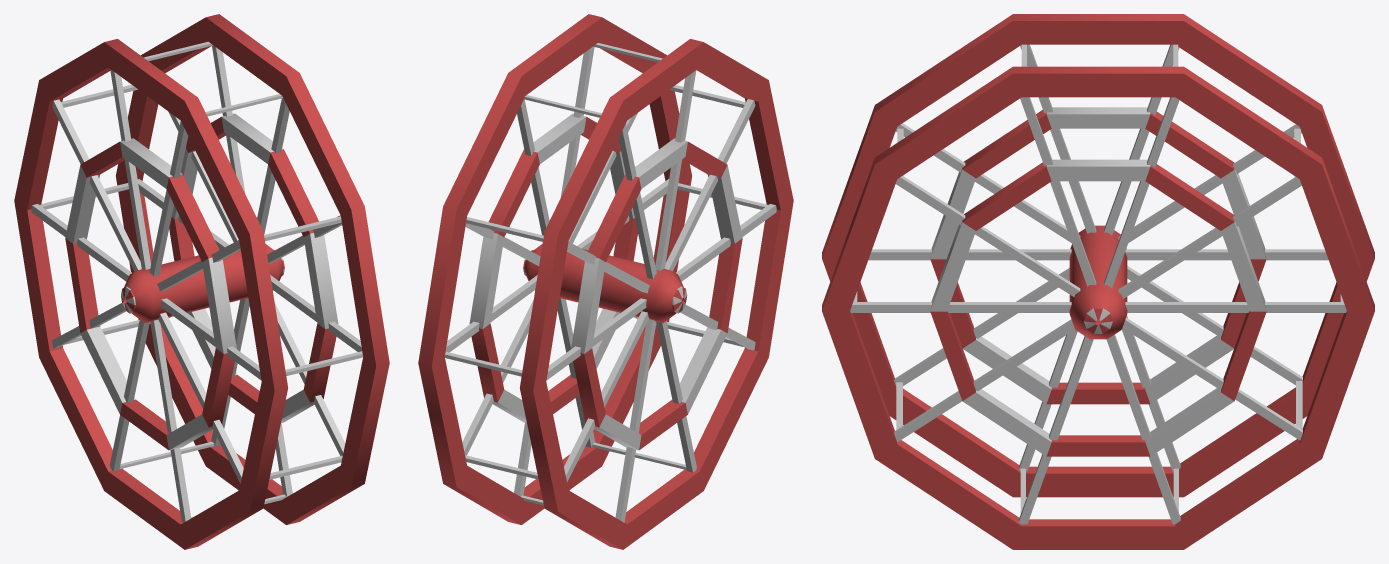
The model's file is wheel.fbx.
3 views of the same model, side by side, from view 1: azimuth 30°, elevation 25°; view 2: azimuth 150°, elevation 25°; view 3: azimuth 270°, elevation 25° (orthographic). The views are drawn at different scales.
Parts seen in each view (by area): view 1: Wheel; view 2: Wheel; view 3: Wheel.
Part boxes in pixels (box(x1,y1,x2,y2)): Wheel: box(14, 14, 389, 549); Wheel: box(418, 14, 793, 549); Wheel: box(822, 14, 1374, 549).
Bounding box in the file's own units: 8.74 × 24.12 × 25.37.
